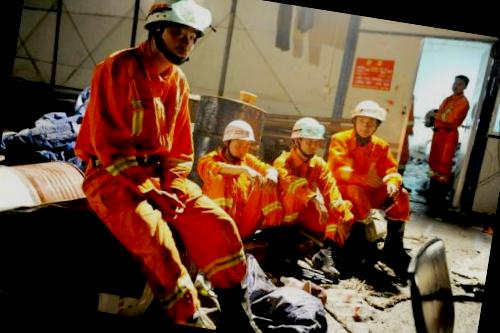no_helmet: (446, 68, 473, 100)
